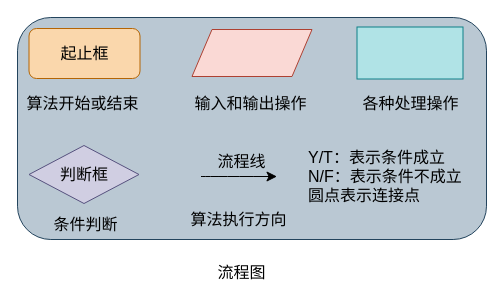
The diagram is 504 pixels wide and 305 high, and some of its shapes have lost their labels. The box of each missing label's shape, as (x1, y1, x2, y2) in pixels:
处理框: (356, 26, 463, 79)
输入输出框: (191, 28, 312, 76)
